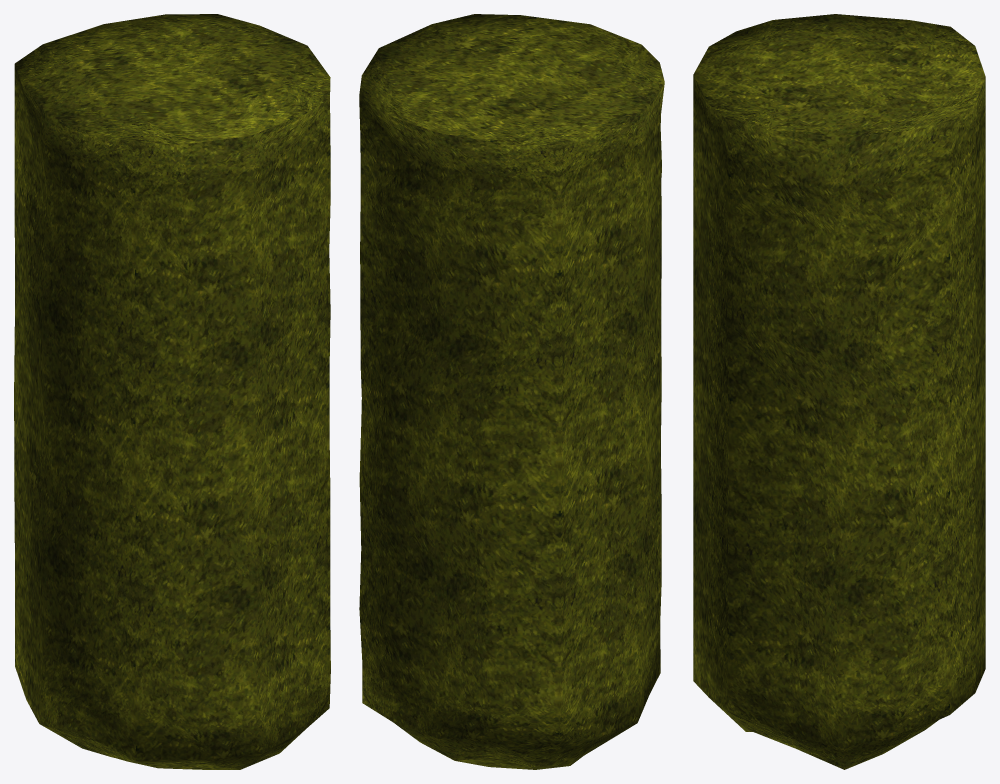
File: INST_TROLLHOLE_CLIFFPLATC.fbx
3 views of the same model, side by side, from view 1: azimuth 30°, elevation 25°; view 2: azimuth 150°, elevation 25°; view 3: azimuth 270°, elevation 25° (orthographic). The views are drawn at different scales.
Visible parts, largest first — view 1: INST_TROLLHOLE_CLIFFPLATC; view 2: INST_TROLLHOLE_CLIFFPLATC; view 3: INST_TROLLHOLE_CLIFFPLATC.
Boxes of the visible parts, x1,y1,x2,y2 form: INST_TROLLHOLE_CLIFFPLATC: [14, 14, 330, 769]; INST_TROLLHOLE_CLIFFPLATC: [359, 14, 664, 769]; INST_TROLLHOLE_CLIFFPLATC: [693, 14, 985, 769].
Bounding box in the file's own units: 30250 × 75046 × 29897.
1 material, 1 textured.
